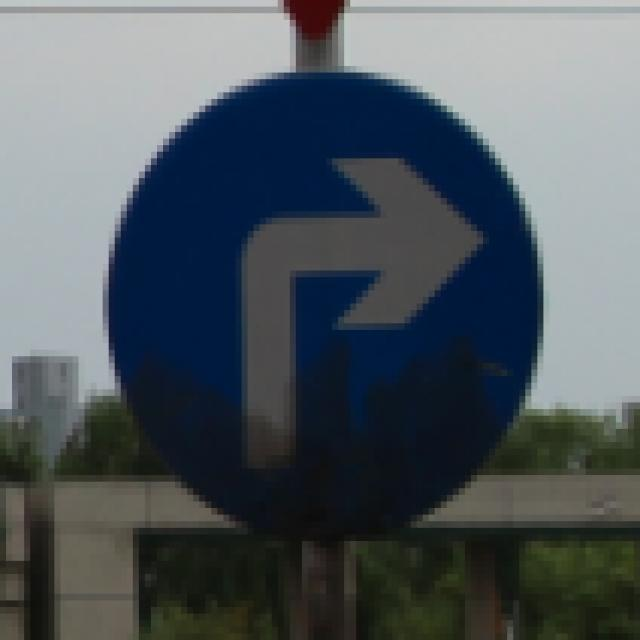Right: (98, 72, 565, 537)
